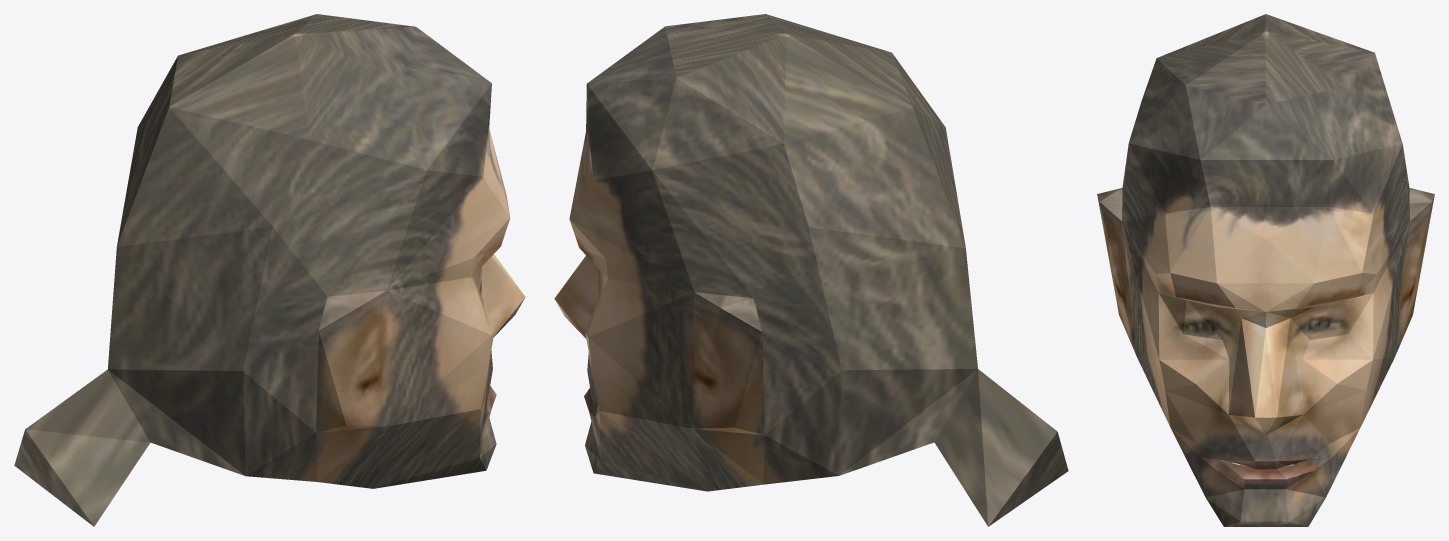
Rendered from STD_PONY.glb.
3 views of the same model, side by side, from view 1: azimuth 30°, elevation 25°; view 2: azimuth 150°, elevation 25°; view 3: azimuth 270°, elevation 25° (orthographic). The views are drawn at different scales.
Parts seen in each view (by area): view 1: zm_Morph; view 2: zm_Morph; view 3: zm_Morph.
Boxes of the visible parts, x1,y1,x2,y2 form: zm_Morph: (14,14,525,526); zm_Morph: (554,14,1068,526); zm_Morph: (1097,14,1434,526).
Size of the model in its own units: 0.3069 by 0.2732 by 0.199.
1 material, 1 textured.
